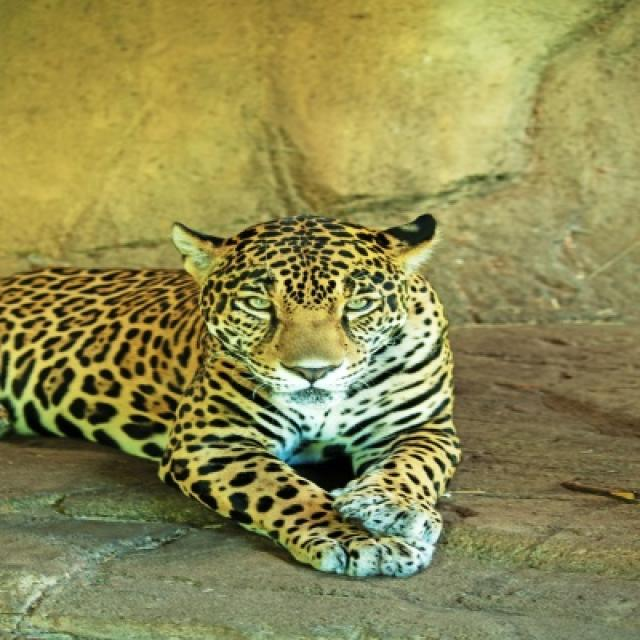Jaguar: (0, 214, 461, 581)
